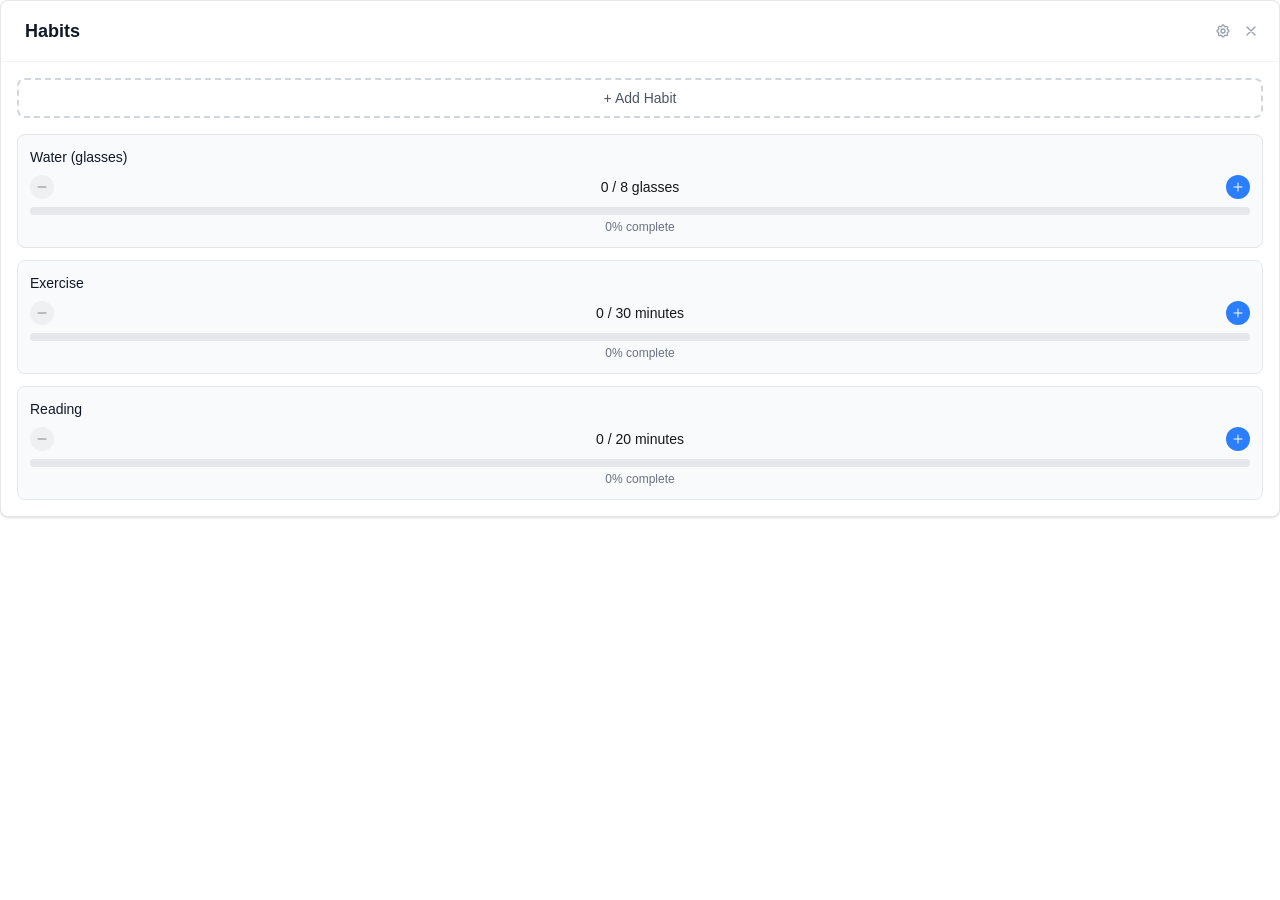
Test: HabitsWidget › habit management › should show add habit form when add button is clicked
This screenshot has width=1280, height=900.
Click the button "+ Add Habit". click: (640, 98)
box: [17,78,1263,118]
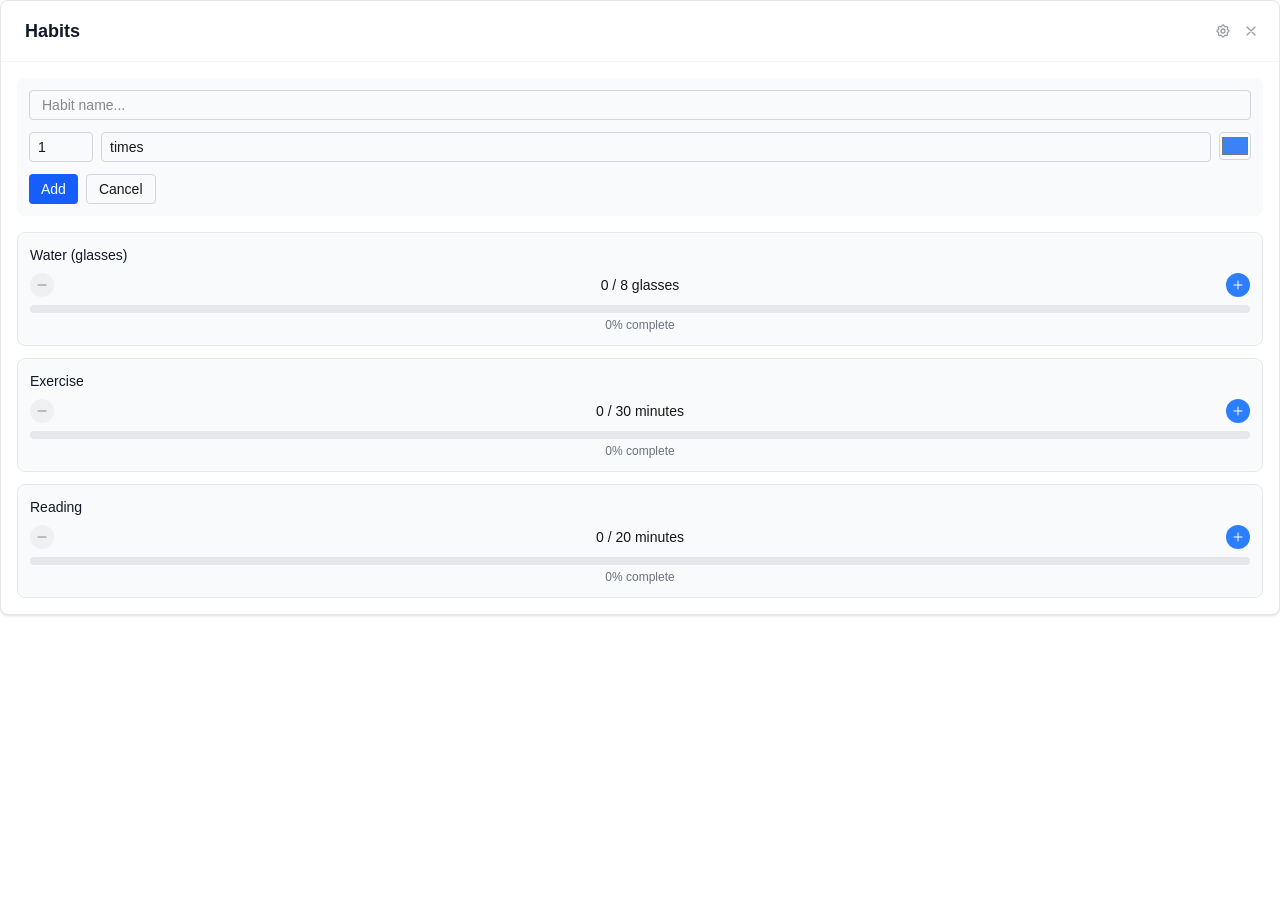
Now the field with placeholder "Habit name..." is shown, box [29,90,1251,120]
Now the number field showing "1" is shown, box [29,132,93,162]
Now the field showing "times" is shown, box [101,132,1211,162]
